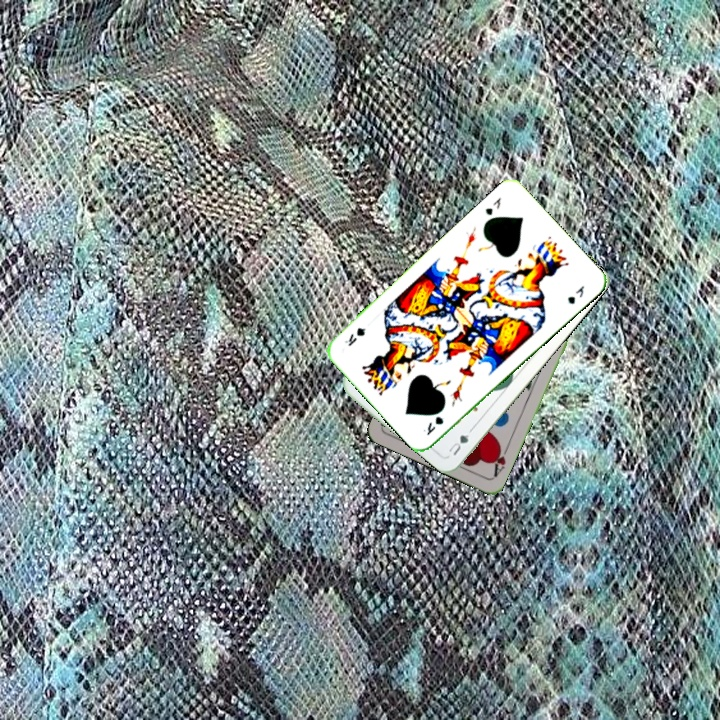GK: (419, 412, 446, 438), (481, 193, 504, 218)
GU: (444, 430, 472, 458)
HA: (488, 441, 512, 480)
